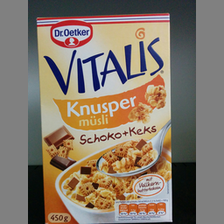cereal: (36, 13, 172, 223)
